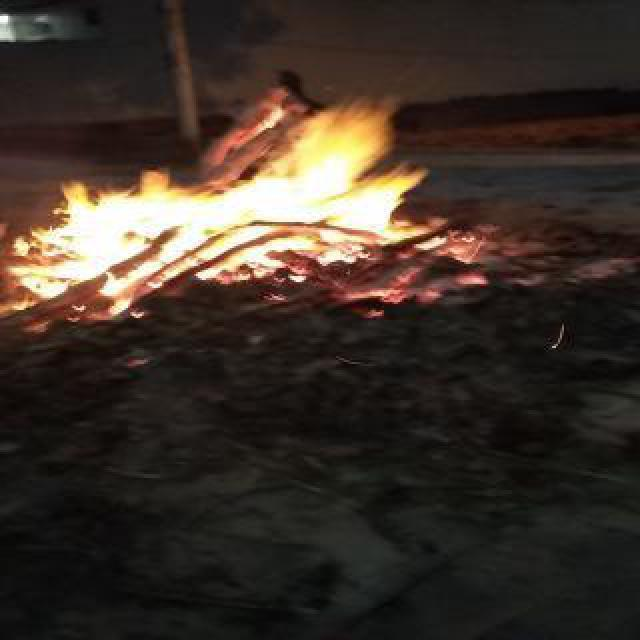Fire: (4, 62, 432, 310)
